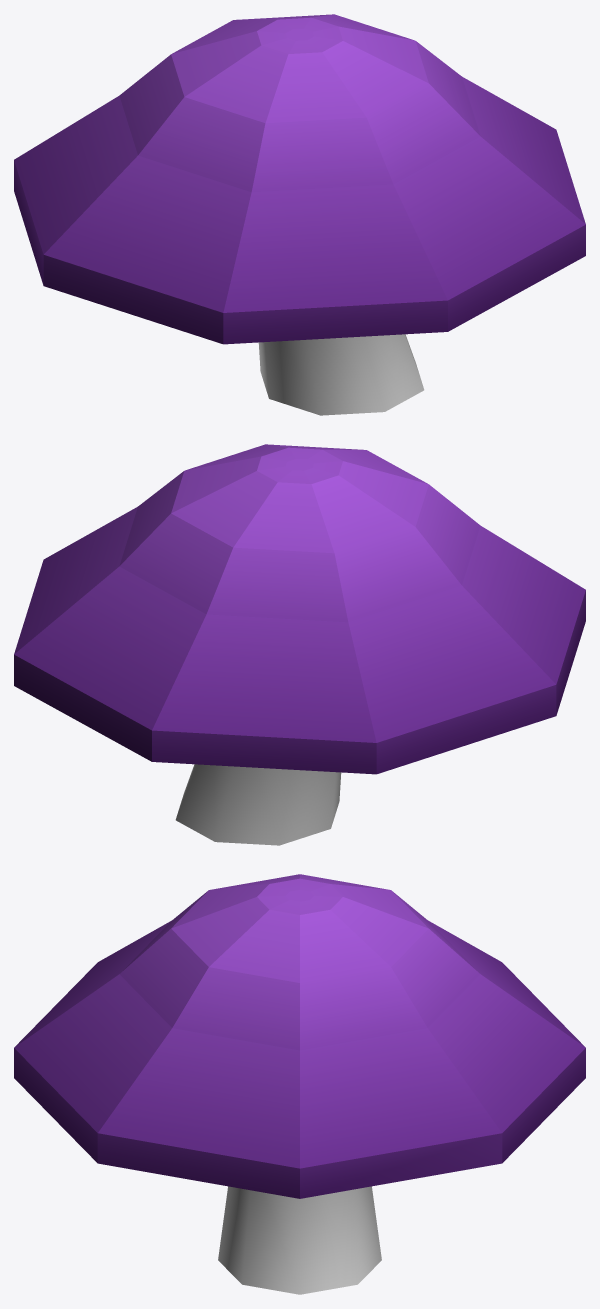
File: MushroomExtraMediumPurple.FBX
3 views of the same model, one above another, from view 1: azimuth 30°, elevation 25°; view 2: azimuth 150°, elevation 25°; view 3: azimuth 270°, elevation 25° (orthographic). The views are drawn at different scales.
Parts seen in each view (by area): view 1: Cylinder049; view 2: Cylinder049; view 3: Cylinder049.
Part boxes in pixels (x1,y1,x2,y2): Cylinder049: (14,14,585,415); Cylinder049: (14,444,585,845); Cylinder049: (14,874,585,1294).
Size of the model in its own units: 24.66 by 16.38 by 24.66.
